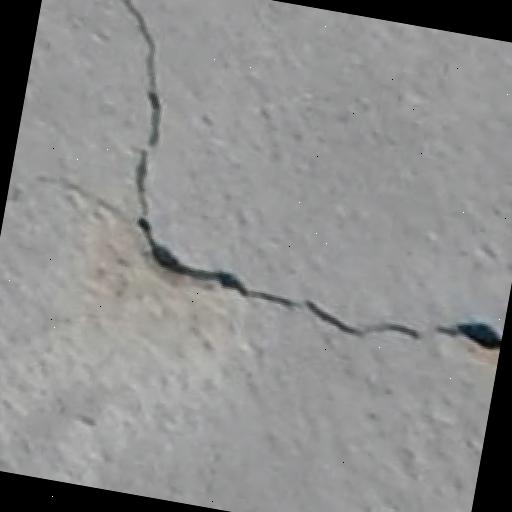spalling: (83, 0, 500, 391)
